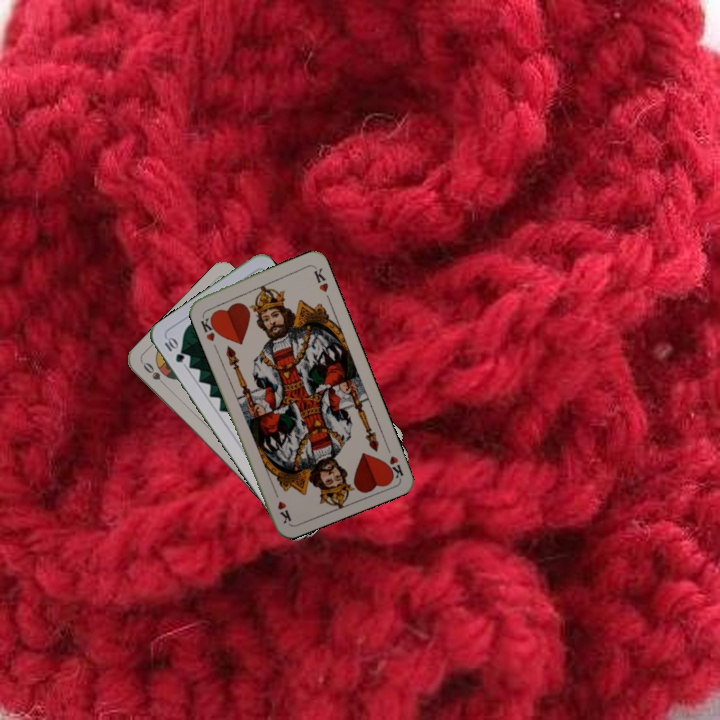G10: (160, 333, 187, 365)
HK: (381, 440, 406, 481), (196, 310, 222, 344)
SO: (139, 358, 171, 391)
